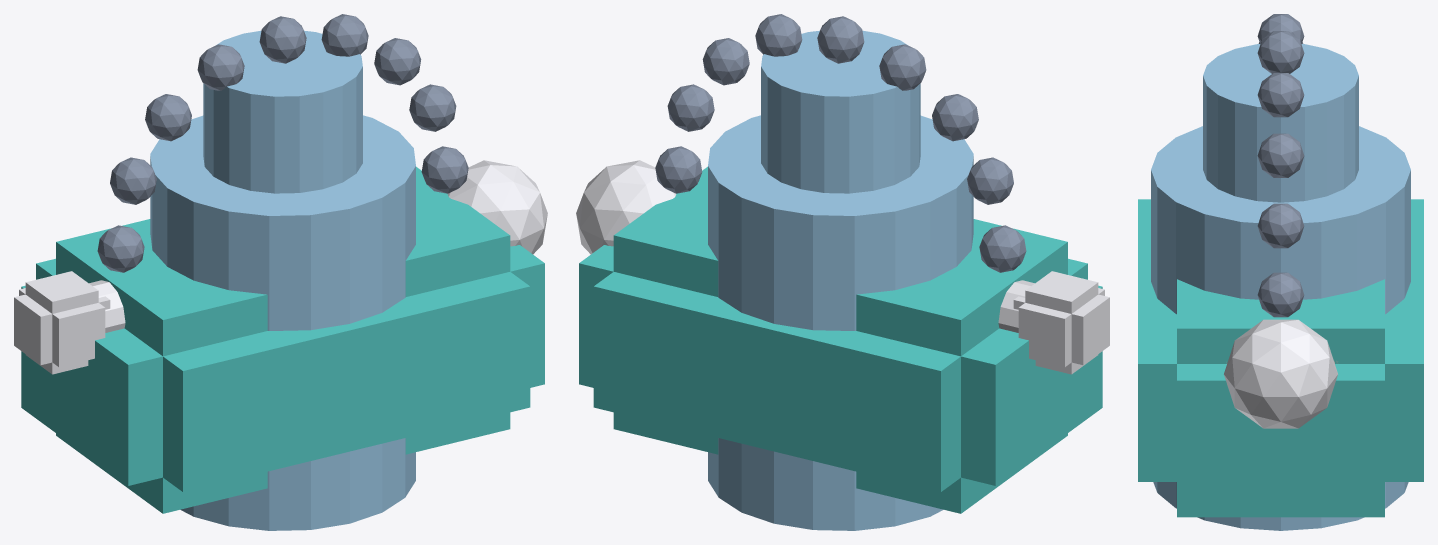
Rendered from prop_klinik.fbx.
3 views of the same model, side by side, from view 1: azimuth 30°, elevation 25°; view 2: azimuth 150°, elevation 25°; view 3: azimuth 270°, elevation 25° (orthographic). The views are drawn at different scales.
Visible parts, largest first — view 1: PropKlinikObat, PropKlinikSirup, PropKlinikSteto, PropKlinikTermo; view 2: PropKlinikObat, PropKlinikSirup, PropKlinikSteto, PropKlinikTermo; view 3: PropKlinikObat, PropKlinikSirup, PropKlinikTermo, PropKlinikSteto.
Boxes of the visible parts, x1=… form: PropKlinikObat: x1=21, y1=166, x2=544, y2=513; PropKlinikSirup: x1=150, y1=30, x2=415, y2=530; PropKlinikSteto: x1=97, y1=14, x2=468, y2=272; PropKlinikTermo: x1=14, y1=160, x2=547, y2=374; PropKlinikObat: x1=579, y1=166, x2=1102, y2=513; PropKlinikSirup: x1=708, y1=30, x2=973, y2=530; PropKlinikSteto: x1=655, y1=14, x2=1026, y2=272; PropKlinikTermo: x1=576, y1=160, x2=1109, y2=374; PropKlinikObat: x1=1138, y1=199, x2=1423, y2=517; PropKlinikSirup: x1=1151, y1=44, x2=1410, y2=530; PropKlinikTermo: x1=1224, y1=319, x2=1337, y2=428; PropKlinikSteto: x1=1257, y1=14, x2=1304, y2=317.
Size of the model in its own units: 2.21 by 2.07 by 1.1.
